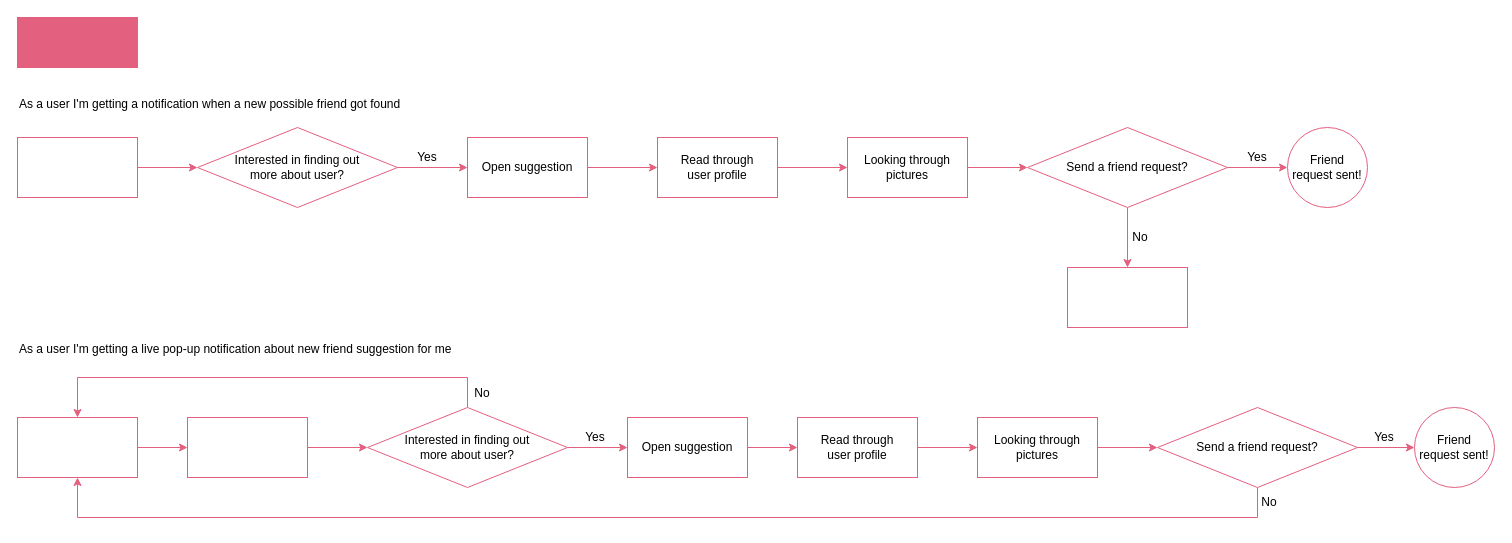
Some shapes in this 1512 by 543 pixel diagram are drawn without their labels. The centre of each missing label's shape, as x and y in pixels:
"Close and back to message screen" goes at point (1127, 297).
"New user suggestion" goes at point (77, 42).
"Notification about new suggestion for you" goes at point (77, 167).
"Pop-up notification about new friend suggestion" goes at point (247, 447).
"Scrolling through app" goes at point (77, 447).
